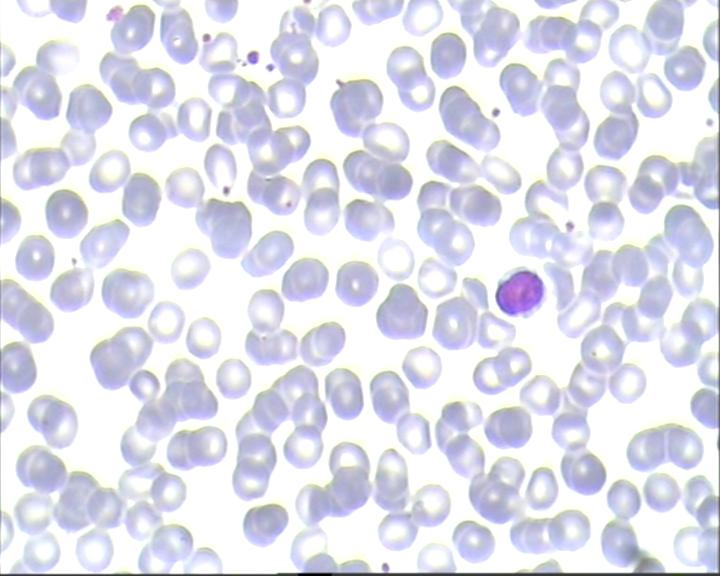lymp: (491, 266, 552, 324)
